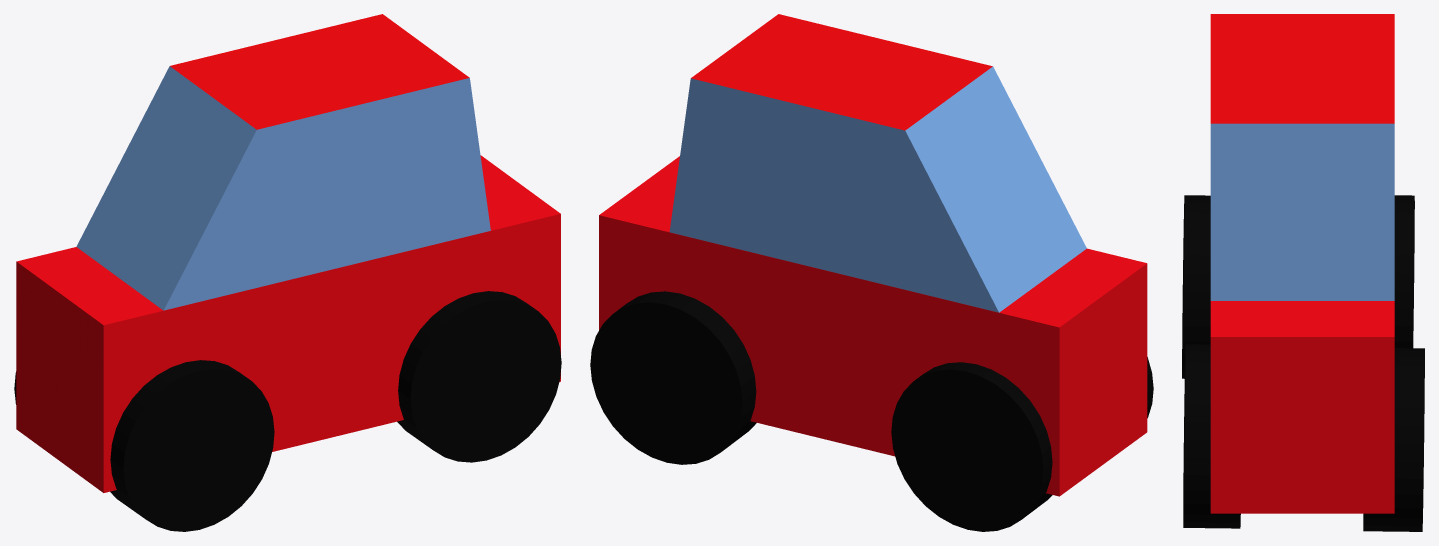
File: car.dae
3 views of the same model, side by side, from view 1: azimuth 30°, elevation 25°; view 2: azimuth 150°, elevation 25°; view 3: azimuth 270°, elevation 25° (orthographic). The views are drawn at different scales.
Parts seen in each view (by area): view 1: Cube.001, Cube, Cylinder.001, Cylinder.002; view 2: Cube.001, Cube, Cylinder.003, Cylinder; view 3: Cube.001, Cube, Cylinder.003, Cylinder.002, Cylinder.001, Cylinder.
Boxes of the visible parts, bbox=[...] form: Cube.001: bbox=[76, 14, 490, 310]; Cube: bbox=[16, 155, 560, 492]; Cylinder.001: bbox=[110, 360, 274, 531]; Cylinder.002: bbox=[397, 291, 561, 462]; Cube.001: bbox=[669, 14, 1086, 312]; Cube: bbox=[599, 156, 1147, 496]; Cylinder.003: bbox=[590, 291, 756, 464]; Cylinder: bbox=[891, 362, 1052, 531]; Cube.001: bbox=[1210, 14, 1394, 300]; Cube: bbox=[1210, 301, 1394, 513]; Cylinder.003: bbox=[1363, 348, 1424, 531]; Cylinder.002: bbox=[1183, 344, 1240, 528]; Cylinder.001: bbox=[1182, 195, 1210, 378]; Cylinder: bbox=[1394, 195, 1414, 348].
Size of the model in its own units: 6.05 by 2.64 by 4.74.
